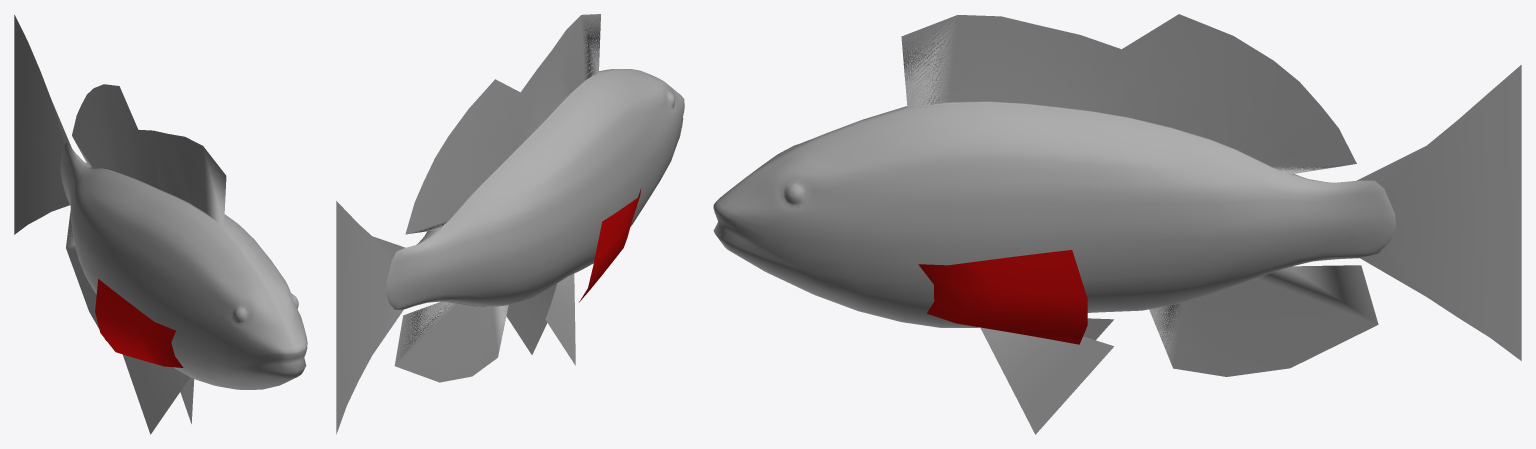
Rendered from Cirrhitidae_A.fbx.
3 renders of one model, left to right at view 1: azimuth 30°, elevation 25°; view 2: azimuth 150°, elevation 25°; view 3: azimuth 270°, elevation 25°, orthographic. The views are drawn at different scales.
Visible parts, largest first — view 1: Cirrhitidae_A_LOD0; view 2: Cirrhitidae_A_LOD0; view 3: Cirrhitidae_A_LOD0.
Part boxes in pixels (left/top/right/bottom): Cirrhitidae_A_LOD0: left=14, top=14, right=307, bottom=434; Cirrhitidae_A_LOD0: left=336, top=14, right=684, bottom=434; Cirrhitidae_A_LOD0: left=713, top=14, right=1521, bottom=434.
Size of what is drawn, in the model's own units: 0.2141 by 0.5327 by 0.9546.
